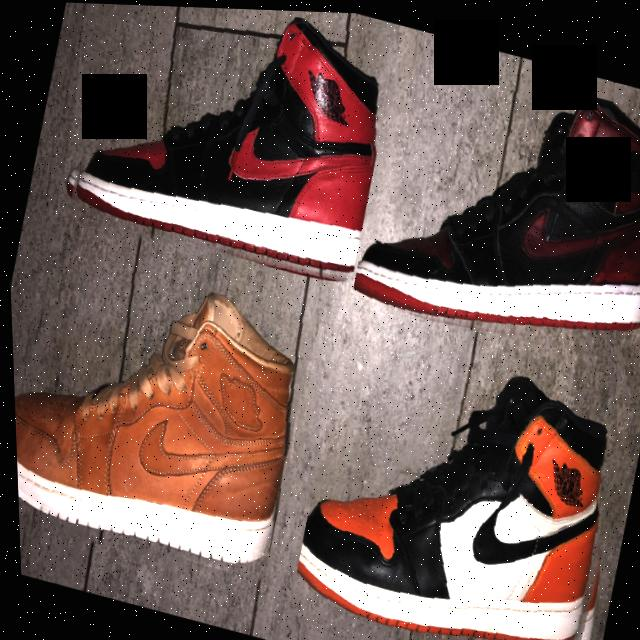shoe: (274, 323, 640, 640), (7, 241, 321, 591), (48, 1, 404, 295), (339, 41, 640, 379)
